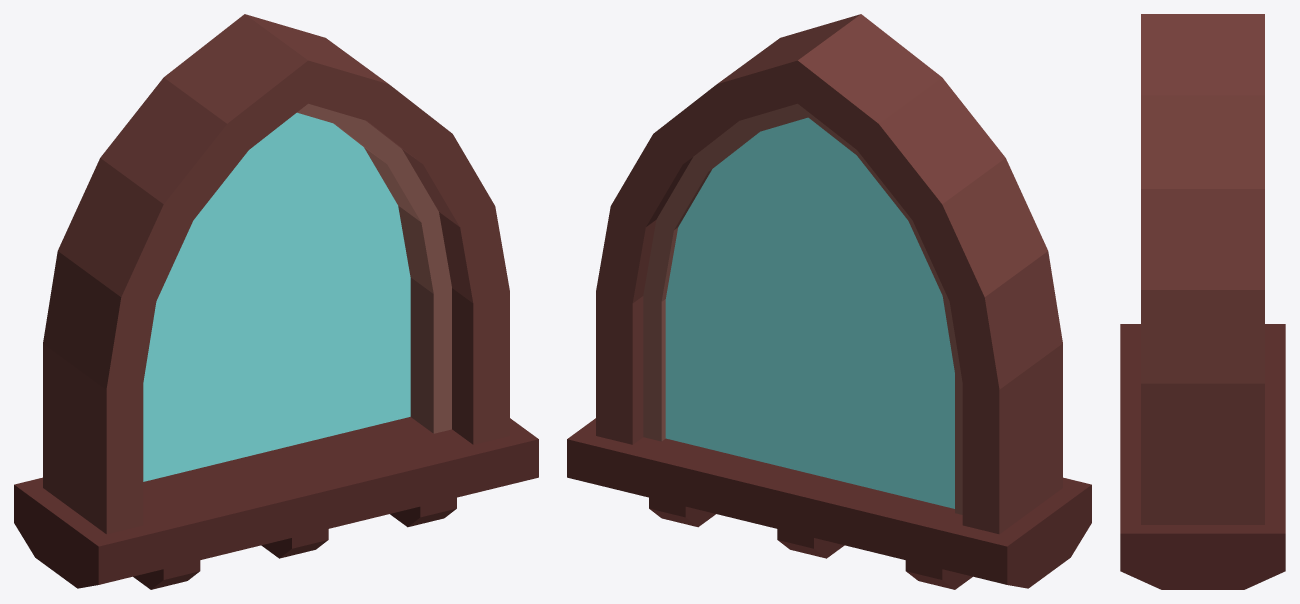
The model's file is Window_1.fbx.
The picture shows the model from 3 angles, left to right: view 1: azimuth 30°, elevation 25°; view 2: azimuth 150°, elevation 25°; view 3: azimuth 270°, elevation 25°; orthographic projection. The views are drawn at different scales.
Parts seen in each view (by area): view 1: Window_1; view 2: Window_1; view 3: Window_1.
Boxes of the visible parts, bbox=[...] form: Window_1: bbox=[14, 14, 538, 589]; Window_1: bbox=[567, 14, 1091, 589]; Window_1: bbox=[1120, 14, 1285, 589].
Size of the model in its own units: 1.2 by 0.4 by 1.31.
